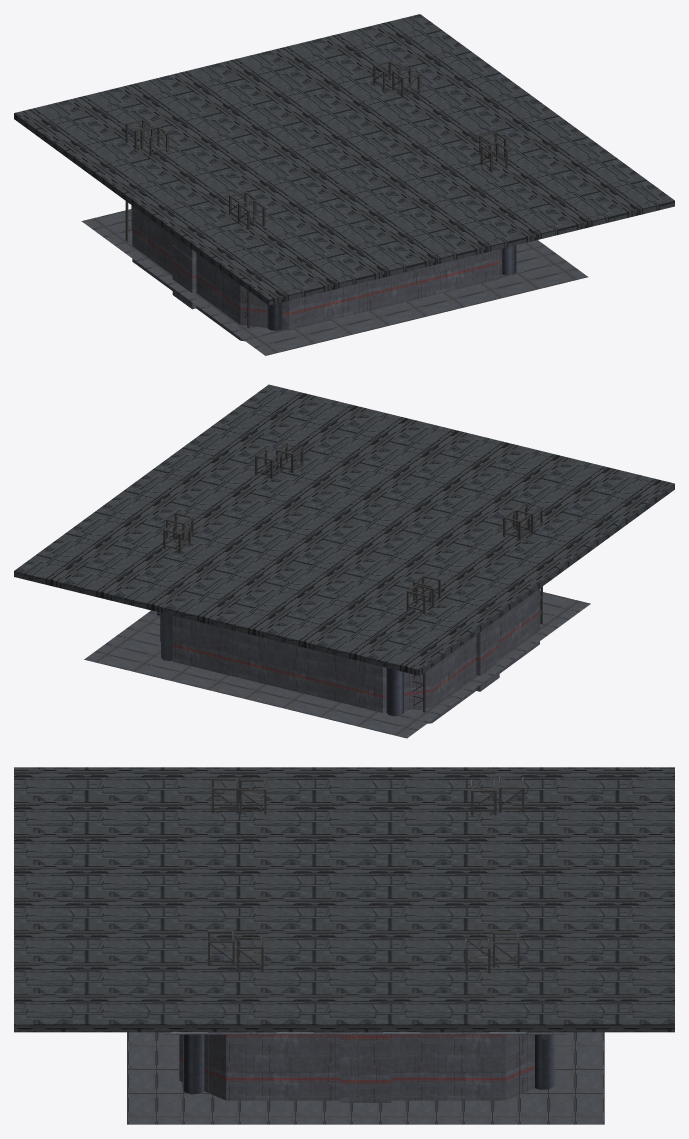
Rendered from D6 merge).fbx.
3 renders of one model, top to bottom at view 1: azimuth 30°, elevation 25°; view 2: azimuth 150°, elevation 25°; view 3: azimuth 270°, elevation 25°, orthographic. The views are drawn at different scales.
Parts seen in each view (by area): view 1: D6wuding, D6waiqiang002, D6dimian005, Commonbarricades002 (7), Commonbarricades002 (4); view 2: D6wuding, D6waiqiang002, D6dimian005, D6wujian004 (3), Commonbarricades002 (7), D6wujian004 (19); view 3: D6wuding, D6waiqiang002, D6dimian005, D6wujian004 (1), D6waiqiang001, D6wujian004 (19), Commonbarricades002 (3), Commonbarricades002 (4), Commonbarricades002, Commonbarricades002 (2), Commonbarricades002 (5).
Part boxes in pixels (x1,y1,x2,y2): D6wuding: (14,14,674,305); D6waiqiang002: (132,206,502,341); D6dimian005: (81,209,588,355); Commonbarricades002 (7): (125,119,153,241); Commonbarricades002 (4): (238,199,265,328); D6wuding: (14,384,674,675); D6waiqiang002: (160,588,539,723); D6dimian005: (84,591,590,738); D6wujian004 (3): (386,668,403,716); Commonbarricades002 (7): (406,584,434,712); D6wujian004 (19): (161,613,172,661); D6wuding: (14,767,674,1032); D6waiqiang002: (179,1034,534,1102); D6dimian005: (127,1032,604,1124); D6wujian004 (1): (183,1034,204,1094); D6waiqiang001: (164,1032,567,1034); D6wujian004 (19): (535,1034,554,1089); Commonbarricades002 (3): (208,930,234,1093); Commonbarricades002 (4): (211,778,238,813); Commonbarricades002: (493,932,519,1094); Commonbarricades002 (2): (236,937,263,972); Commonbarricades002 (5): (239,779,266,814).
Size of the model in its own units: 69.36 by 21.68 by 75.37.
